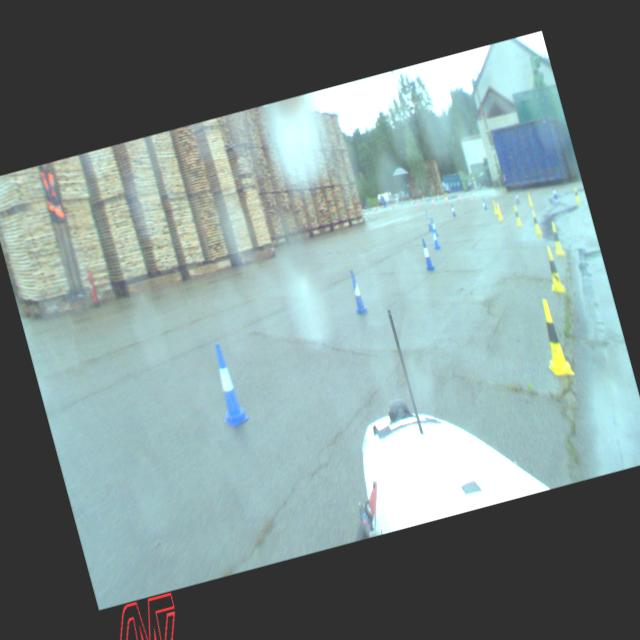blue_cone: (206, 342, 246, 426), (347, 268, 368, 314), (418, 238, 434, 270), (430, 230, 440, 250), (429, 218, 438, 236), (449, 202, 456, 215), (551, 185, 557, 198), (512, 190, 518, 202), (481, 198, 487, 208)
orange_cone: (412, 198, 418, 210), (456, 192, 461, 202), (471, 188, 475, 198), (444, 194, 448, 203), (430, 197, 434, 206), (390, 202, 394, 209), (372, 207, 376, 213), (416, 198, 419, 204)
yellow_cone: (533, 296, 571, 376), (541, 244, 565, 293), (548, 220, 565, 256), (530, 210, 542, 235), (512, 204, 522, 224), (490, 198, 498, 214), (572, 187, 580, 200), (496, 203, 502, 220), (527, 194, 533, 206)
